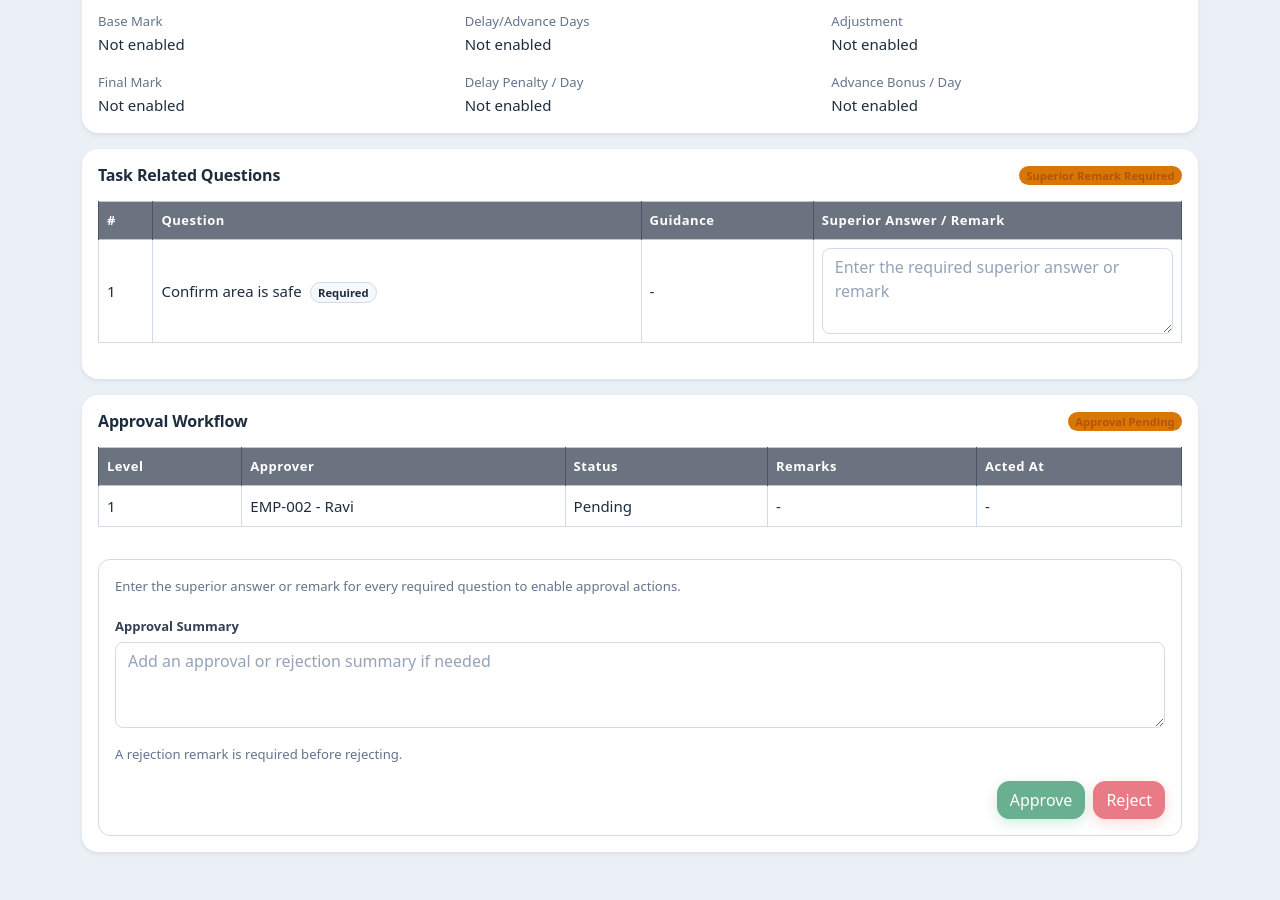
Scenario: checklist task approval actions › shows approve and reject only for normal approval submissions
This screenshot has width=1280, height=900.
(page scrolled)
Check: the button "Approve" is shown, box [997,781,1085,819]
Check: the button "Reject" is disabled, box [1093,781,1165,819]
Type "Answer is incorrect" into the text box with placeholder "Add an approval or rejection summary if needed".
click(640, 685); type("Answer is incorrect")  # box [115,642,1165,728]
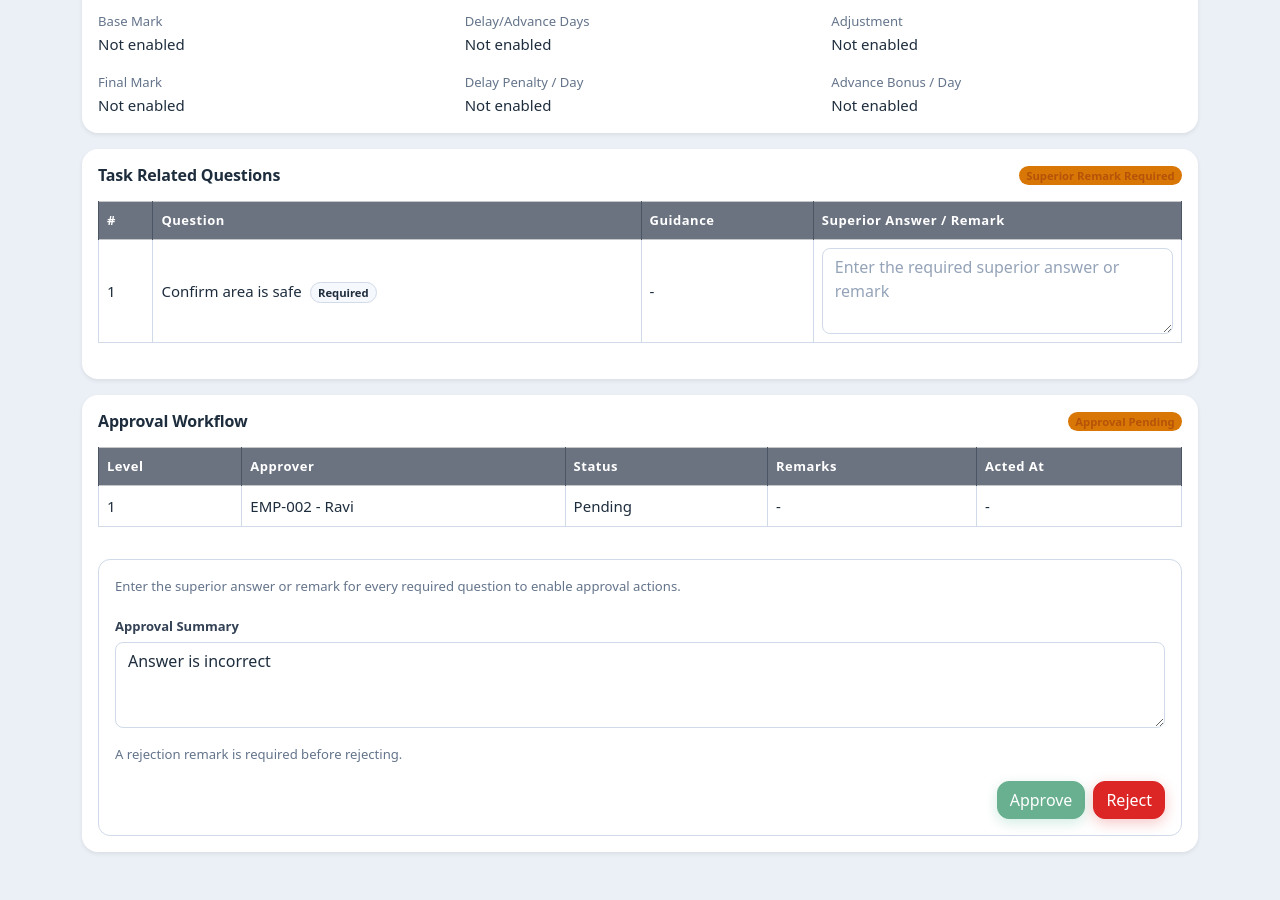
Check: the button "Reject" is enabled, box [1093,781,1165,819]
